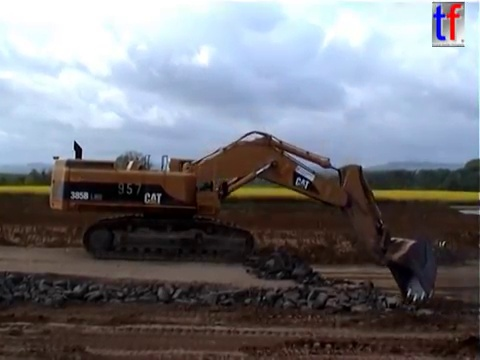excavator: (47, 129, 440, 305)
